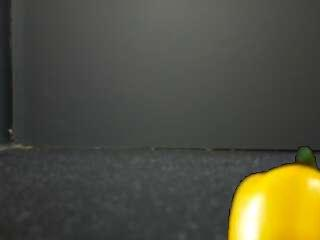Capsicum: (226, 144, 320, 239)
